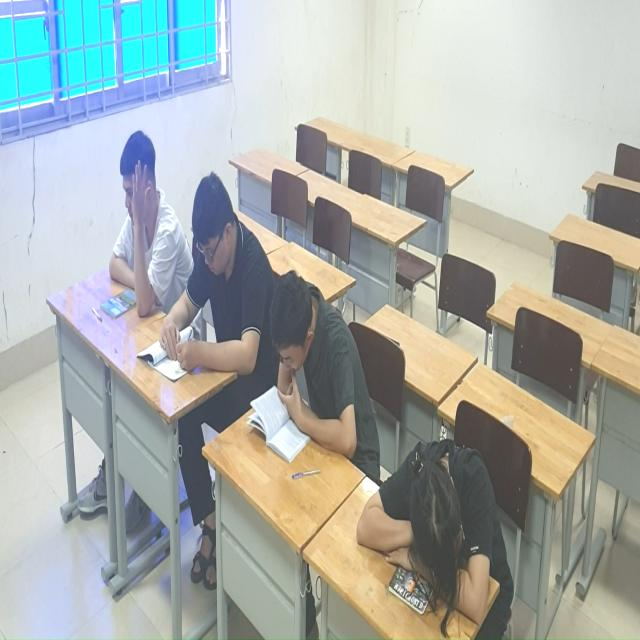raise_hand: (104, 126, 180, 329)
read: (158, 178, 270, 425), (246, 262, 372, 467)
sleep: (348, 439, 519, 640)
